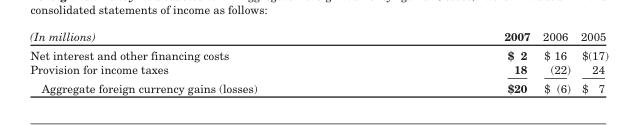table: (29, 28, 607, 94)
table column: (29, 28, 379, 94), (379, 28, 535, 94), (535, 28, 574, 94), (574, 28, 607, 94)
table column header: (29, 28, 607, 45)
table row: (29, 28, 607, 45), (29, 77, 607, 94), (29, 45, 607, 61), (29, 61, 607, 77)
